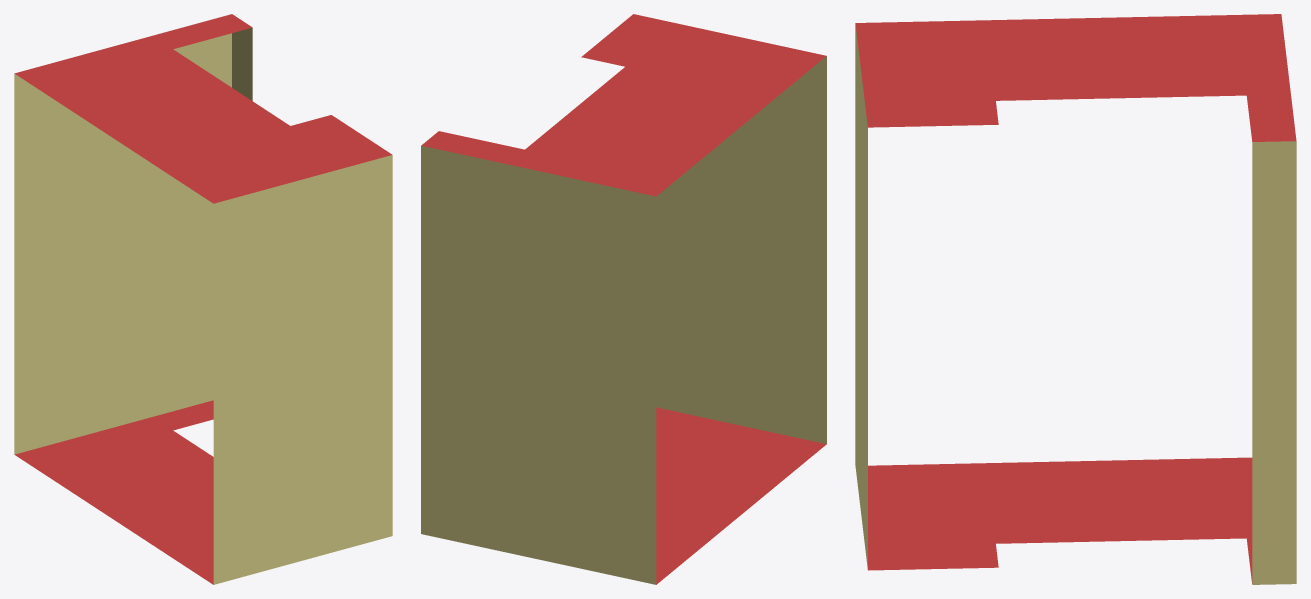
3 renders of one model, left to right at view 1: azimuth 30°, elevation 25°; view 2: azimuth 150°, elevation 25°; view 3: azimuth 270°, elevation 25°, orthographic. The views are drawn at different scales.
Size of the model in its own units: 3.42 by 4.98 by 5.52.
